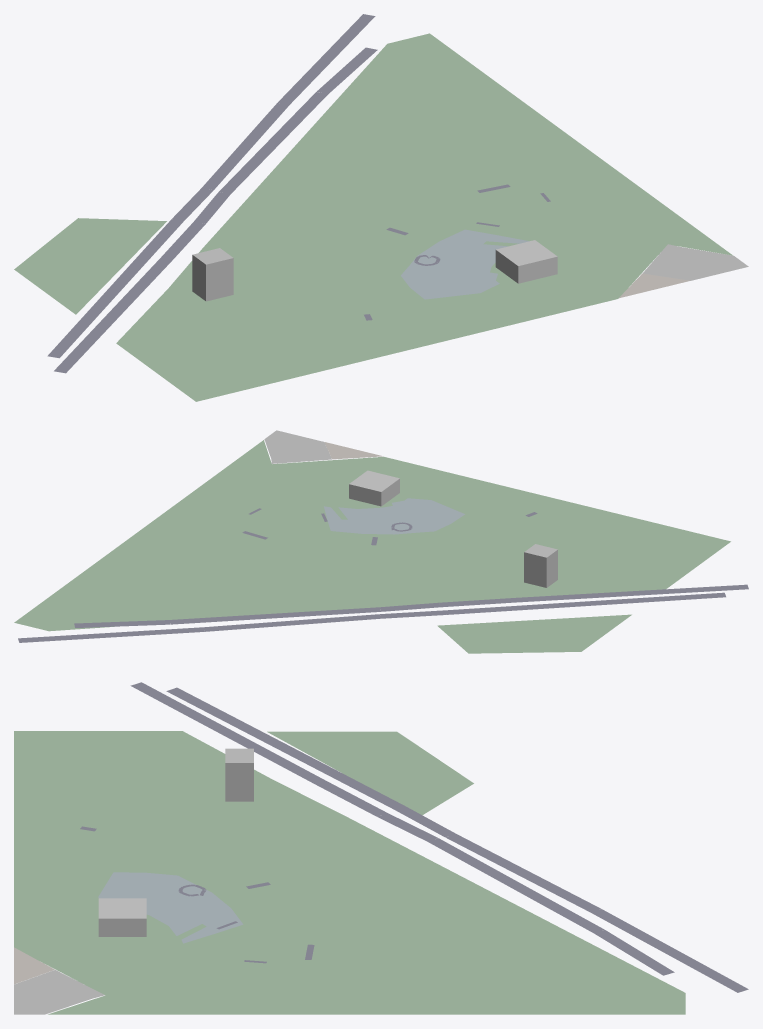
Rendered from 103_86_mid.glb.
3 views of the same model, one above another, from view 1: azimuth 30°, elevation 25°; view 2: azimuth 150°, elevation 25°; view 3: azimuth 270°, elevation 25° (orthographic). The views are drawn at different scales.
Size of the model in its own units: 574 by 32.57 by 547.
